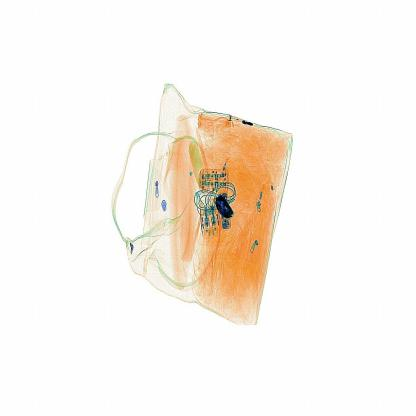scissors: (215, 189, 247, 236)
